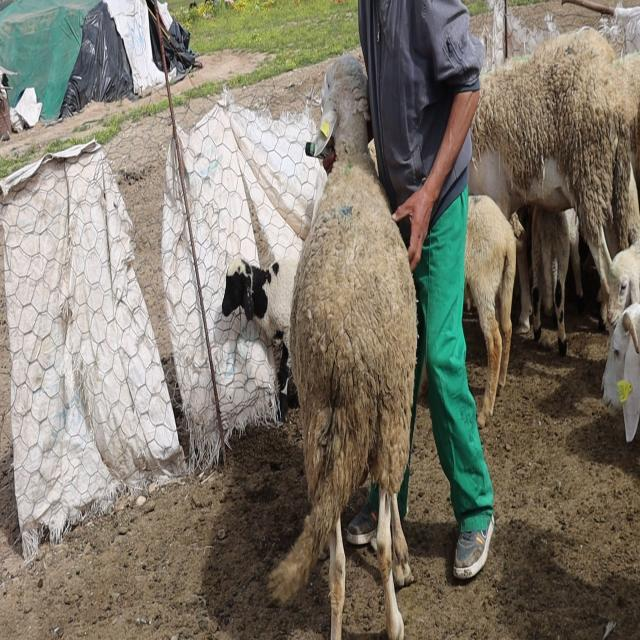Score_3: (269, 55, 417, 639)
